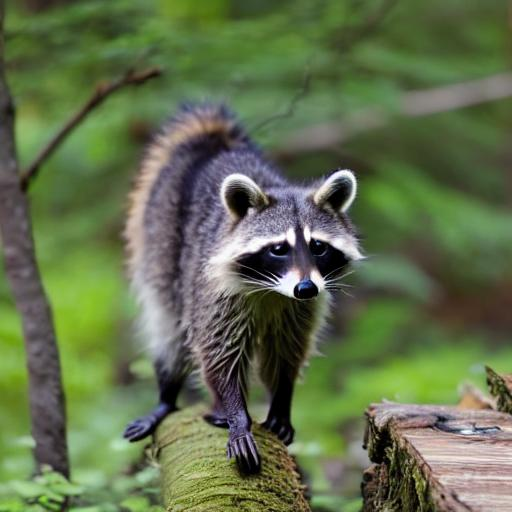raccoon: (111, 108, 378, 383)
